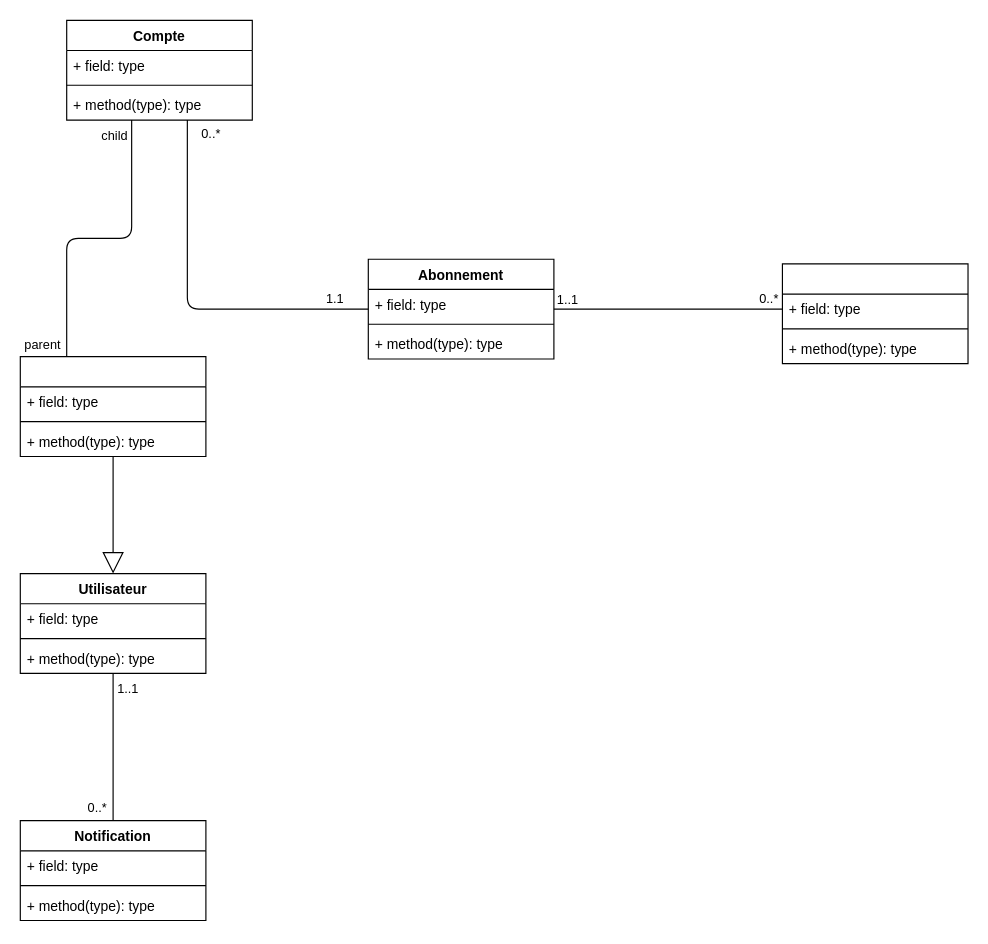
Image size: 988x944. Some labels were removed from this diagram. The shapes that lost their labels are listed below. From the top down, each one's box as (x1, y1, x2, y2) in pixels, then its label:
(781, 263, 968, 364): Carte
(19, 356, 206, 456): Client
